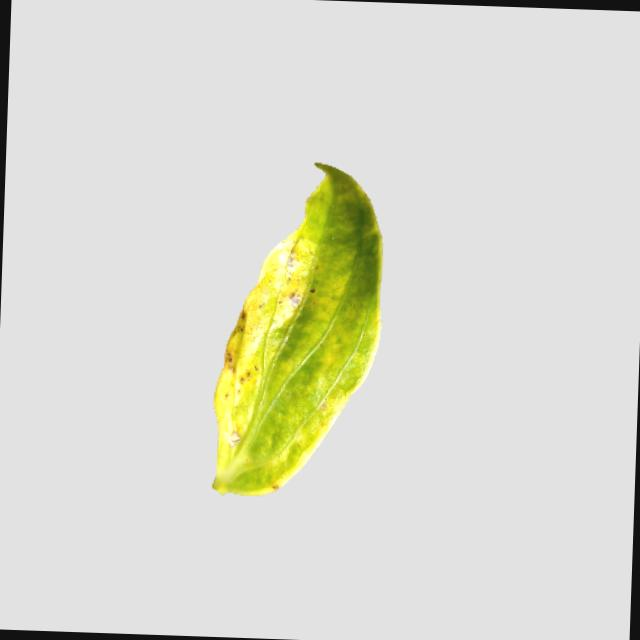yellow-mottle-virus: (201, 159, 402, 506)
